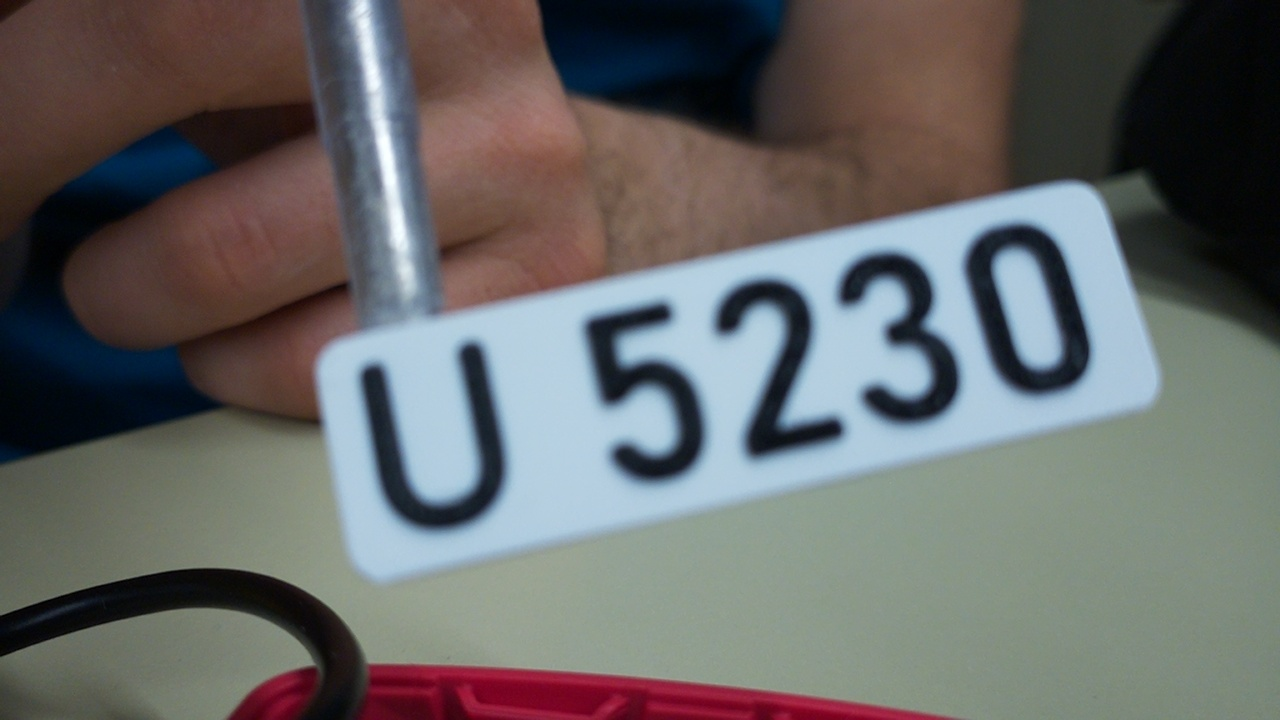license_plate: (311, 178, 1172, 587)
